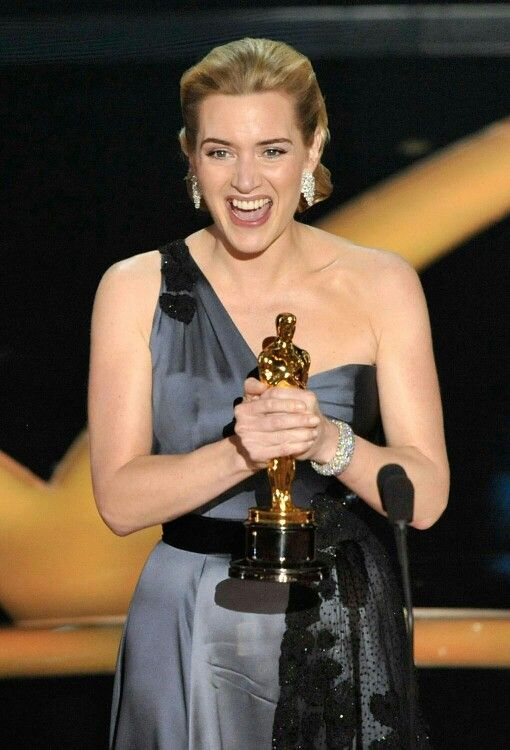hand: (237, 379, 321, 451)
